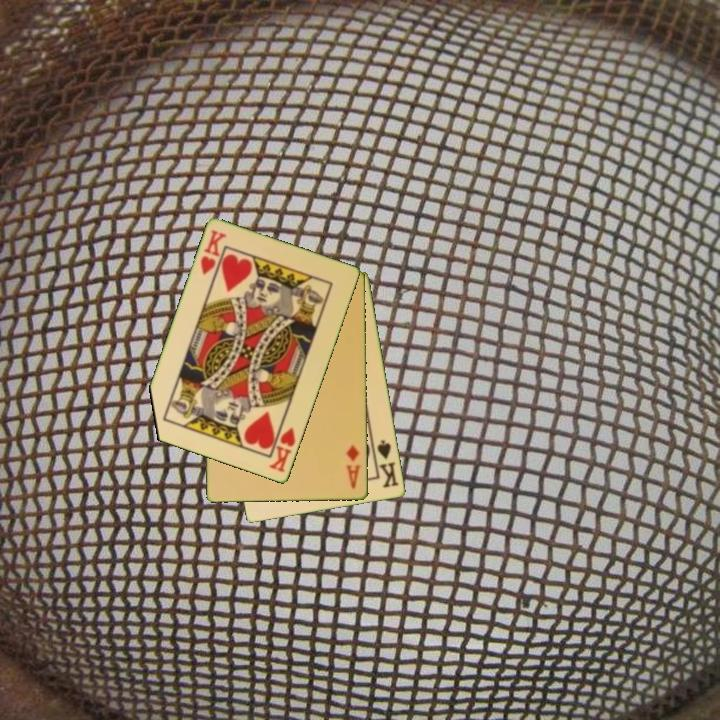Ad: (343, 442, 364, 492)
Kh: (266, 418, 298, 475), (197, 227, 230, 278)
Ks: (374, 437, 402, 491)
